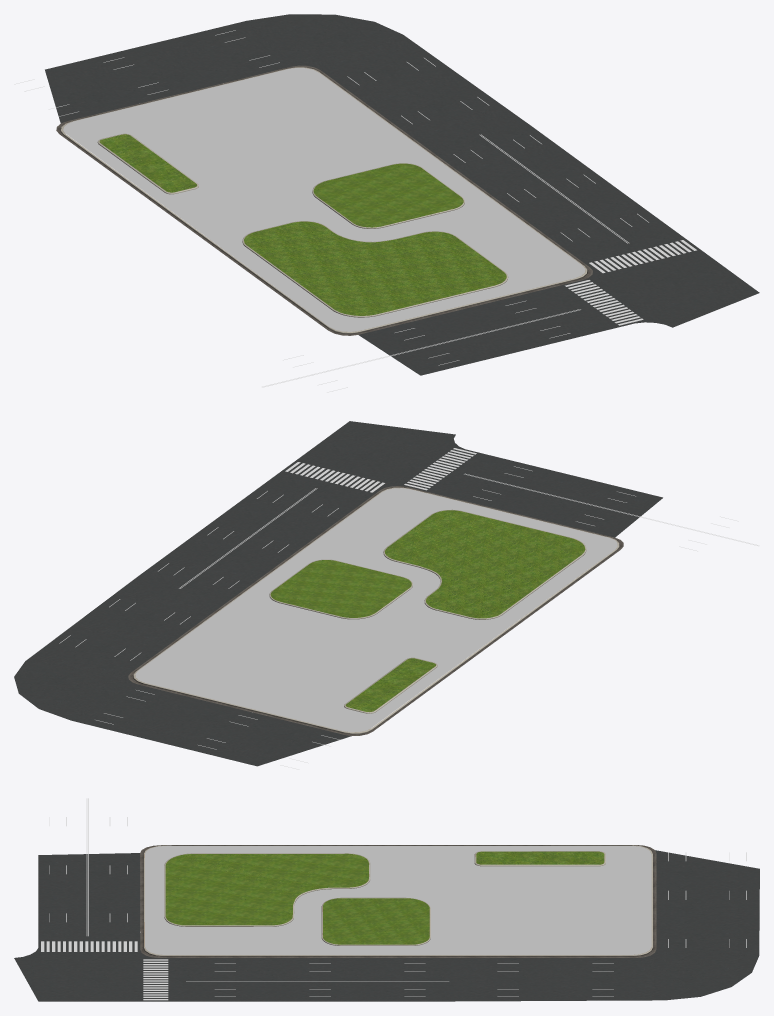
The model's file is Island_Area_03.fbx.
3 views of the same model, one above another, from view 1: azimuth 30°, elevation 25°; view 2: azimuth 150°, elevation 25°; view 3: azimuth 270°, elevation 25° (orthographic). The views are drawn at different scales.
Parts seen in each view (by area): view 1: Island_Area_03, Terrain_NY_Asphalt.027, Terrain_NY_Marking.025, Terrain_NY_Marking.032; view 2: Island_Area_03, Terrain_NY_Asphalt.027, Terrain_NY_Marking.025, Terrain_NY_Marking.032; view 3: Island_Area_03, Terrain_NY_Asphalt.027, Terrain_NY_Marking.032, Terrain_NY_Marking.025.
Part boxes in pixels (x1,y1,x2,y2): Island_Area_03: (56, 65, 592, 335); Terrain_NY_Asphalt.027: (45, 14, 759, 375); Terrain_NY_Marking.025: (262, 280, 643, 392); Terrain_NY_Marking.032: (347, 58, 696, 273); Island_Area_03: (128, 486, 623, 735); Terrain_NY_Asphalt.027: (14, 421, 662, 766); Terrain_NY_Marking.025: (404, 448, 759, 551); Terrain_NY_Marking.032: (59, 462, 384, 660); Island_Area_03: (140, 845, 656, 957); Terrain_NY_Asphalt.027: (14, 850, 759, 1001); Terrain_NY_Marking.032: (143, 959, 613, 1000); Terrain_NY_Marking.025: (41, 798, 137, 951).
Bounding box in the file's own units: 7802 × 31.39 × 12098.
